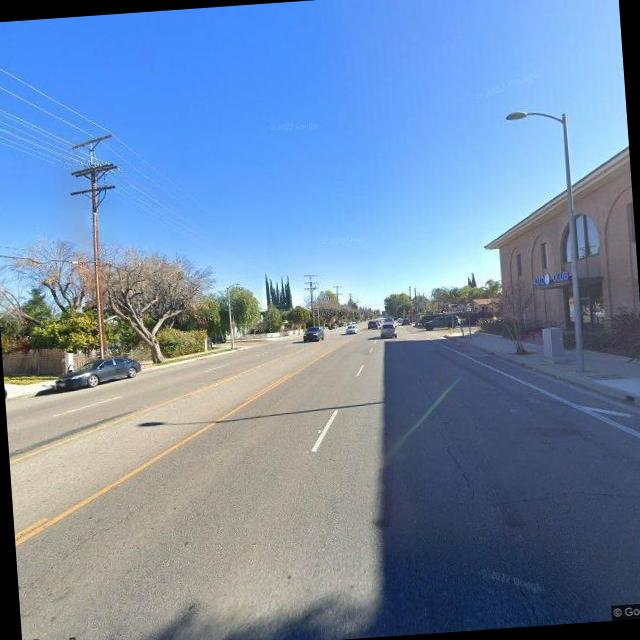crack: (28, 488, 165, 580), (497, 474, 640, 520), (442, 438, 478, 504)
